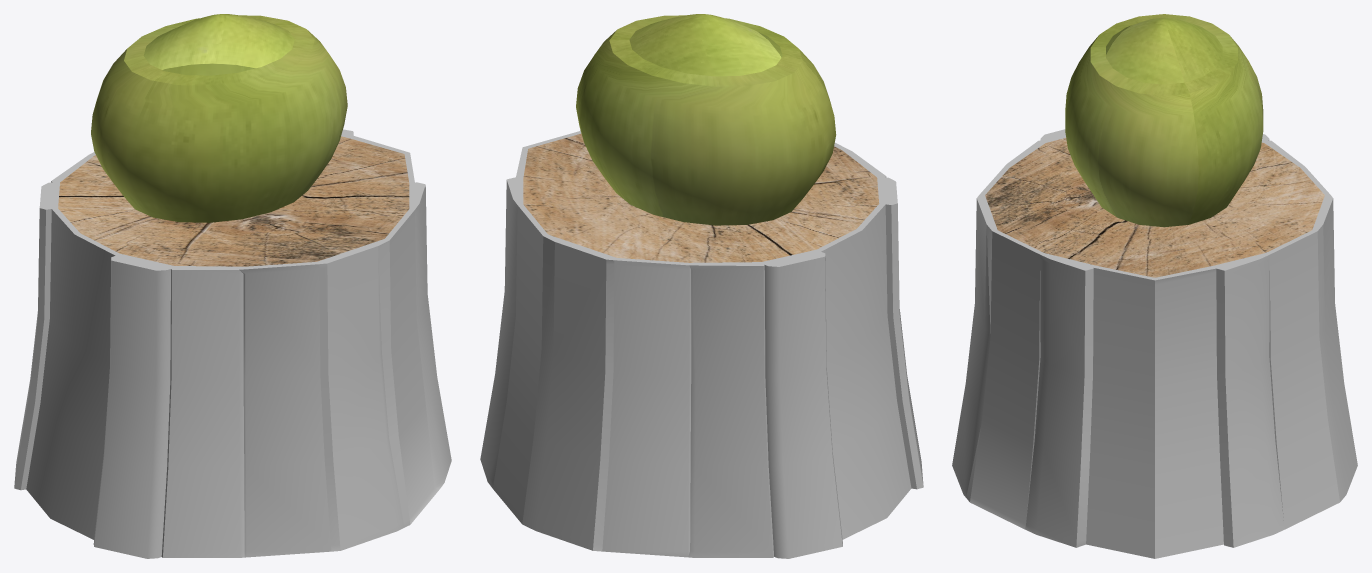
Rendered from coconut.fbx.
The picture shows the model from 3 angles, left to right: view 1: azimuth 30°, elevation 25°; view 2: azimuth 150°, elevation 25°; view 3: azimuth 270°, elevation 25°; orthographic projection. The views are drawn at different scales.
Parts seen in each view (by area): view 1: tree_stump, pSphere1.001; view 2: tree_stump, pSphere1.001; view 3: tree_stump, pSphere1.001.
Part boxes in pixels (left/top/right/bottom): tree_stump: left=14, top=129, right=451, bottom=558; pSphere1.001: left=91, top=14, right=347, bottom=222; tree_stump: left=480, top=130, right=923, bottom=558; pSphere1.001: left=576, top=14, right=836, bottom=225; tree_stump: left=952, top=129, right=1357, bottom=558; pSphere1.001: left=1065, top=14, right=1263, bottom=227.
Size of the model in its own units: 74.88 by 85.27 by 71.34.
